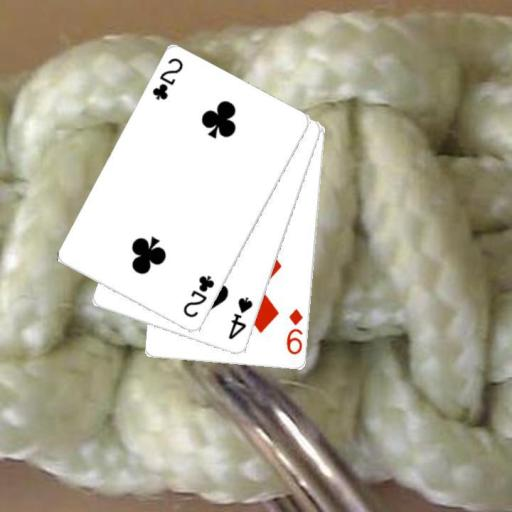2C: (180, 272, 216, 320), (149, 55, 185, 102)
4S: (226, 295, 255, 342)
9D: (284, 306, 304, 357)
